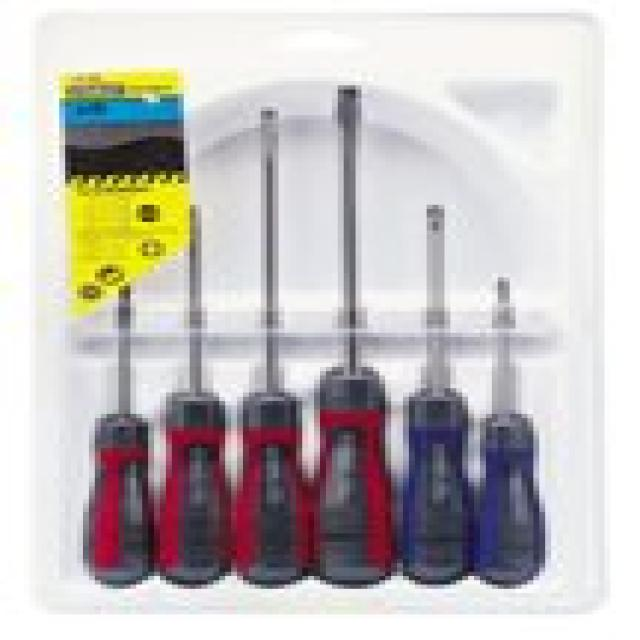screw driver: (300, 64, 405, 571), (227, 87, 325, 564), (369, 187, 484, 590), (462, 264, 579, 598), (68, 267, 166, 575), (159, 197, 233, 568)
